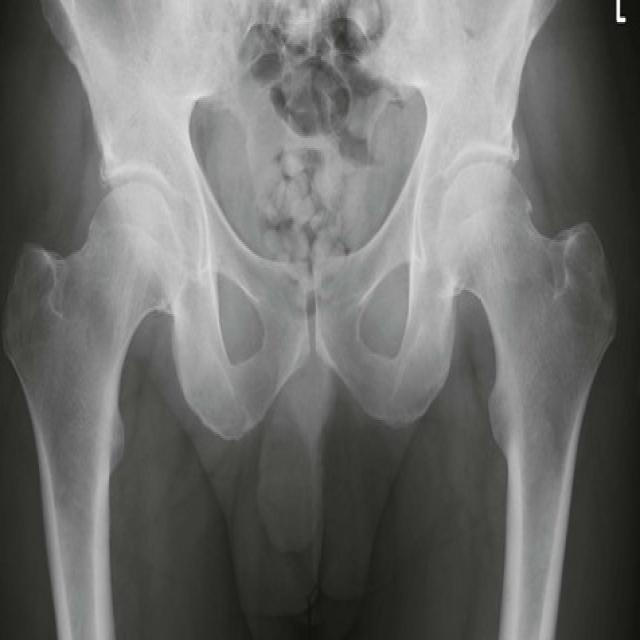normal-left: (434, 161, 619, 640)
normal-right: (0, 181, 185, 640)
